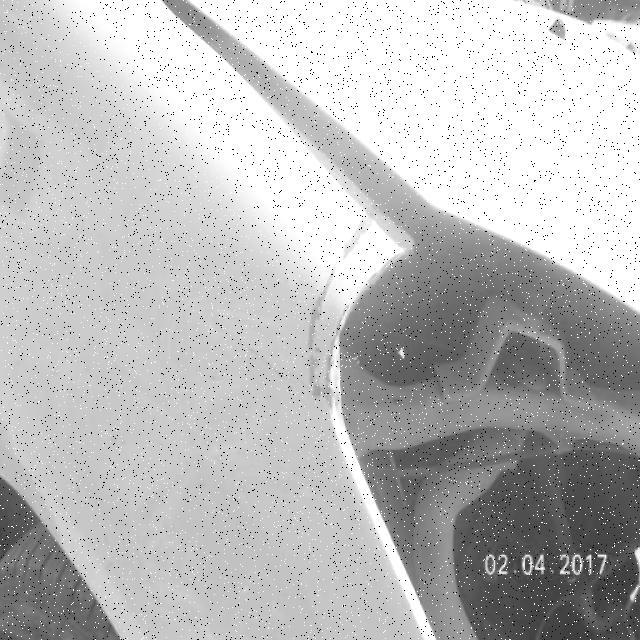car damage: (304, 202, 417, 419), (227, 324, 303, 402)
